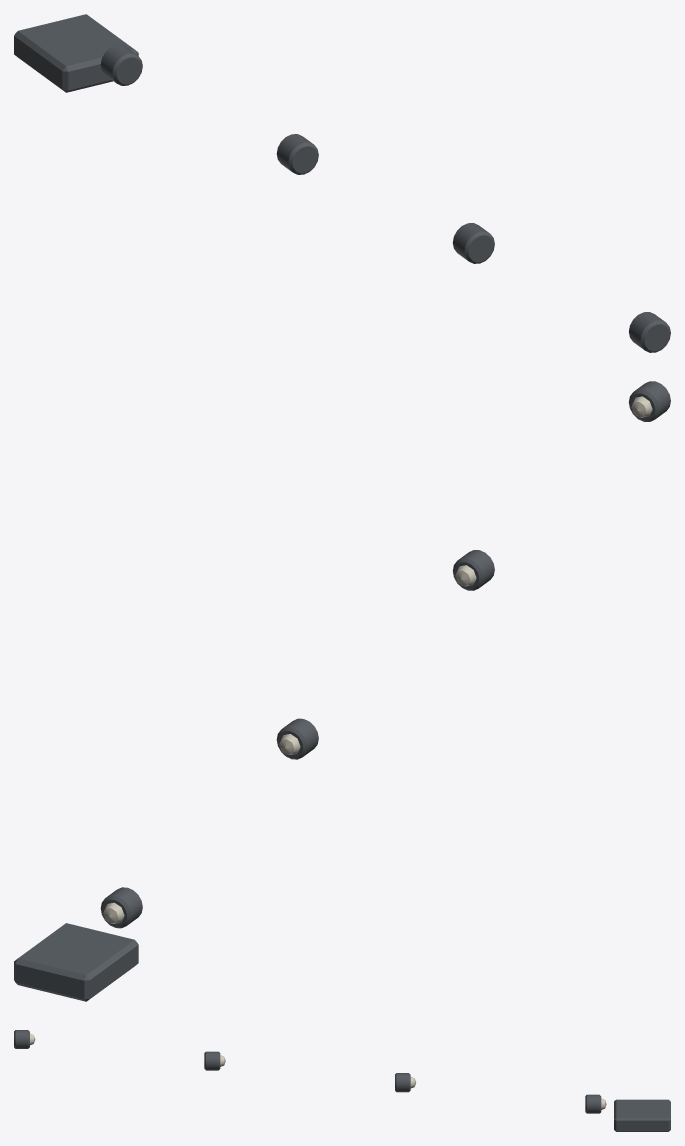
Rendered from n1_sensors.obj.
The picture shows the model from 3 angles, top to bottom: view 1: azimuth 30°, elevation 25°; view 2: azimuth 150°, elevation 25°; view 3: azimuth 270°, elevation 25°; orthographic projection. The views are drawn at different scales.
Parts seen in each view (by area): view 1: n1_sensors; view 2: n1_sensors; view 3: n1_sensors.
Boxes of the visible parts, x1,y1,x2,y2 form: n1_sensors: (14, 14, 670, 352); n1_sensors: (14, 381, 670, 1001); n1_sensors: (14, 1030, 670, 1131).
Bounding box in the file's own units: 0.3 × 0.64 × 4.14.
